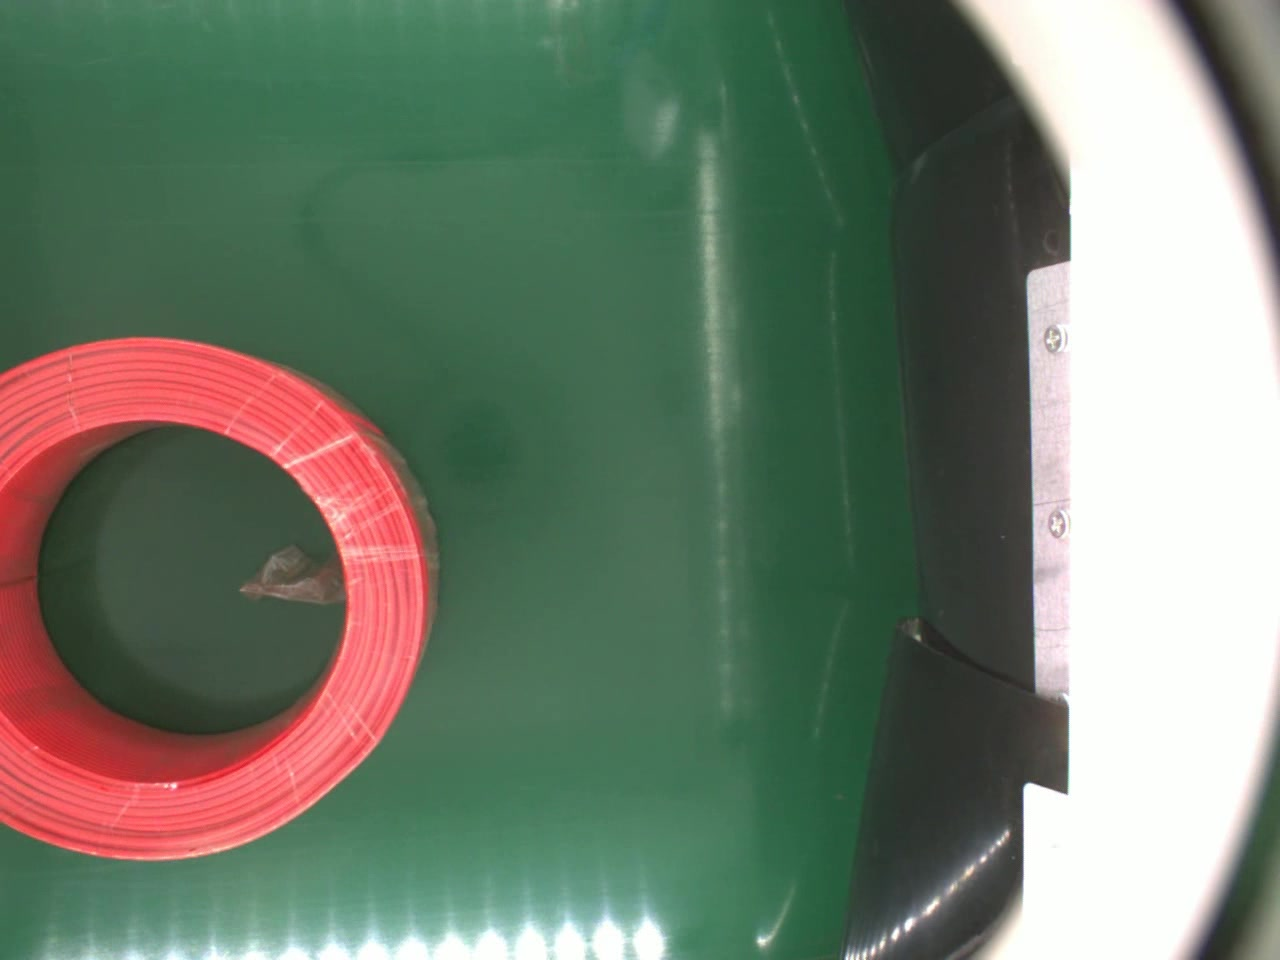red: (0, 336, 438, 858)
